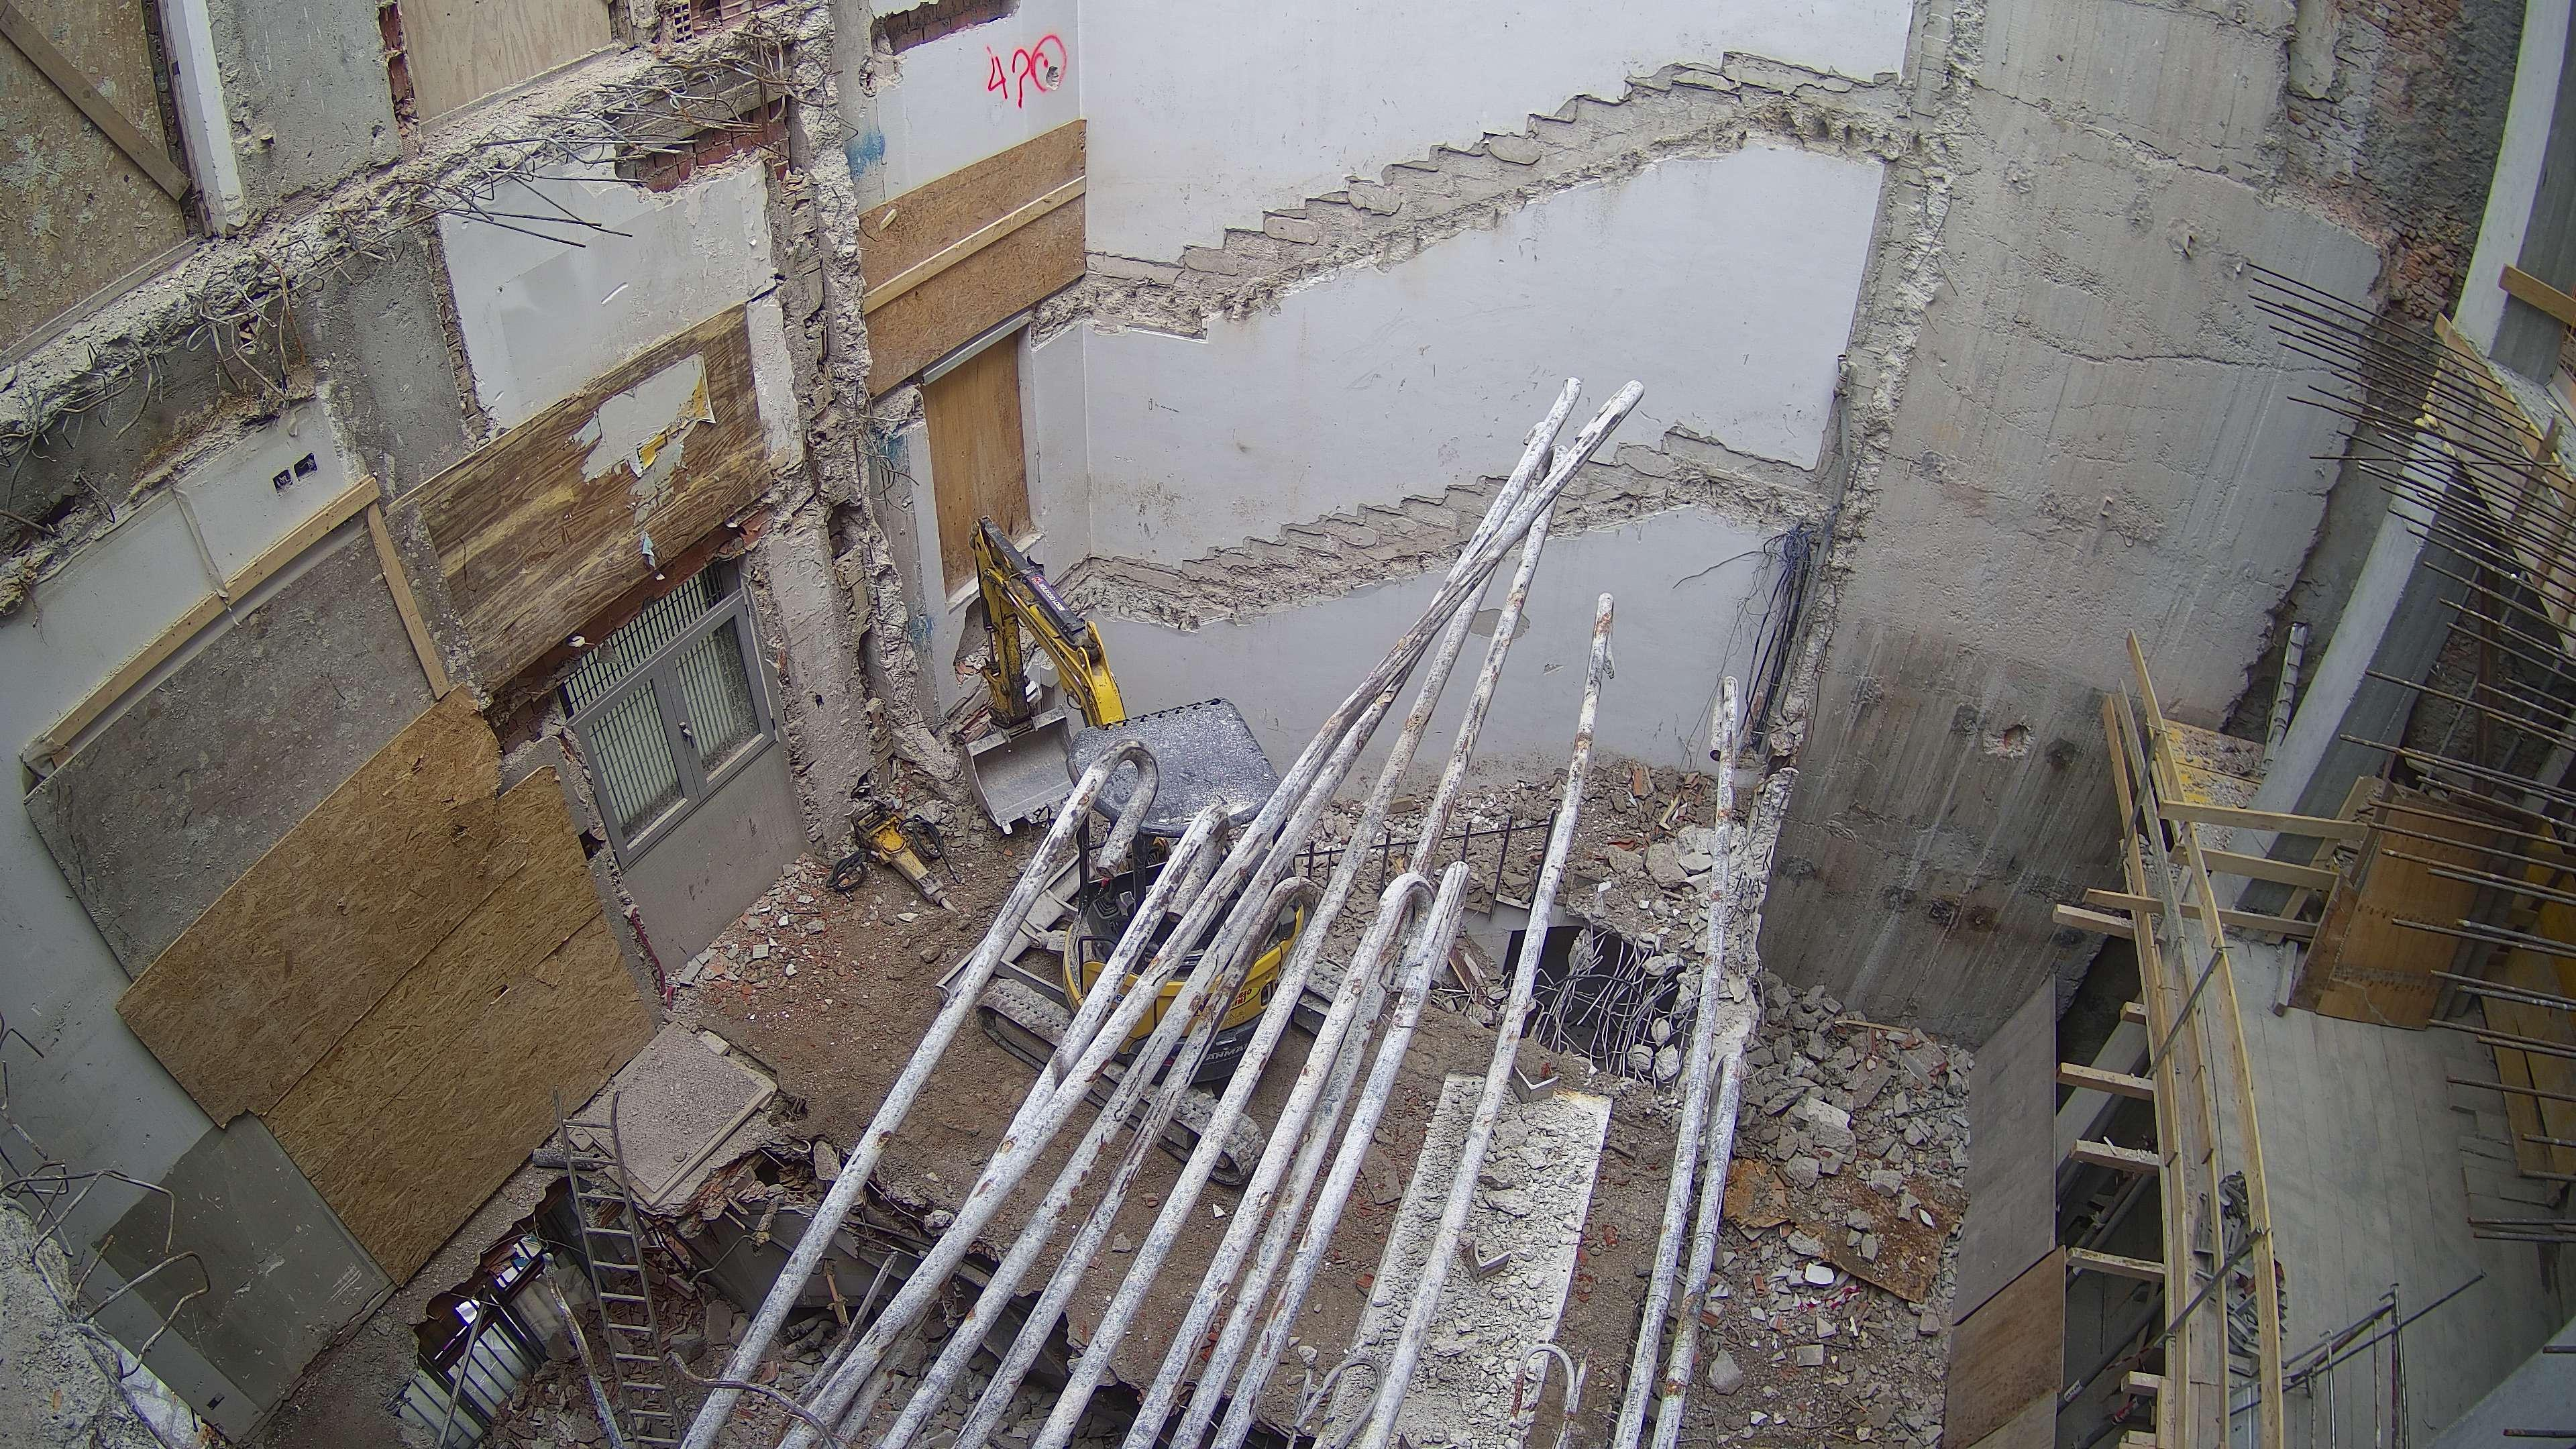excavator: (936, 515, 1345, 1184)
